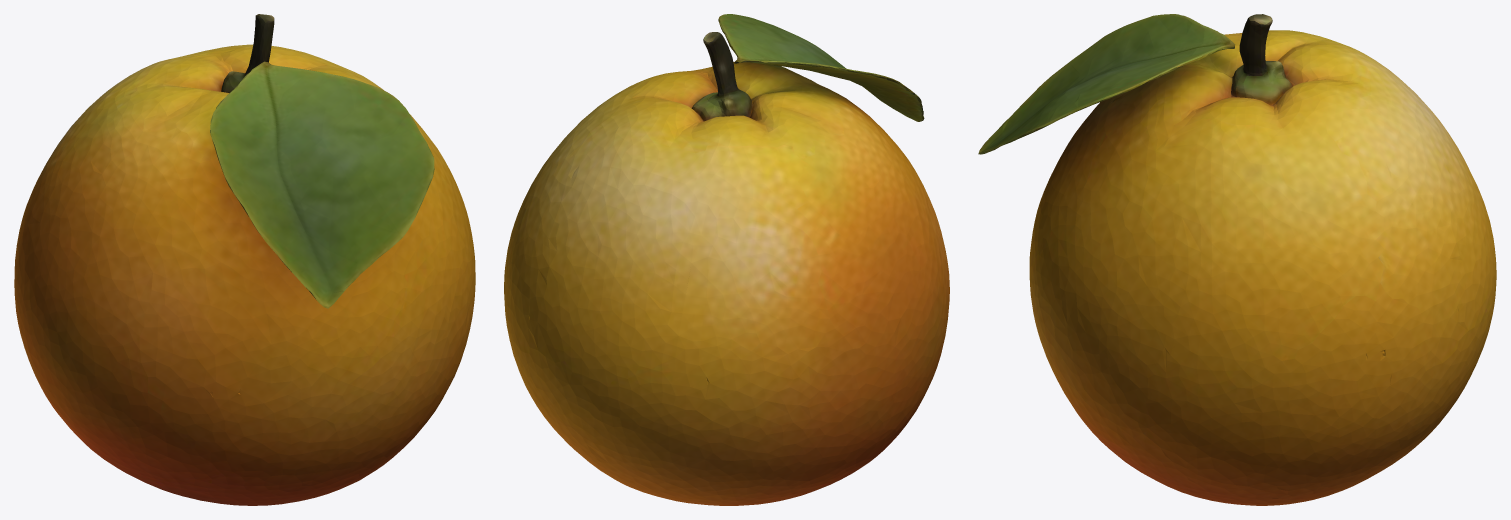
Rendered from orange.glb.
The picture shows the model from 3 angles, left to right: view 1: azimuth 30°, elevation 25°; view 2: azimuth 150°, elevation 25°; view 3: azimuth 270°, elevation 25°; orthographic projection. The views are drawn at different scales.
Visible parts, largest first — view 1: world; view 2: world; view 3: world.
Boxes of the visible parts, x1,y1,x2,y2 form: world: [14, 14, 475, 505]; world: [504, 14, 949, 505]; world: [978, 14, 1496, 505].
Size of the model in its own units: 0.9137 by 0.9807 by 0.999.
1 material, 1 textured.
